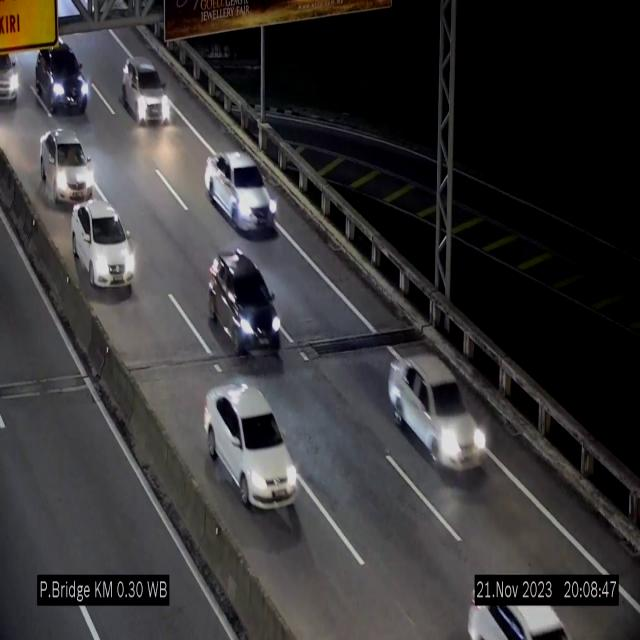Car: (204, 377, 298, 507), (388, 356, 489, 471), (208, 251, 282, 360), (464, 574, 572, 640), (205, 150, 278, 234), (72, 198, 136, 290), (33, 34, 96, 121), (38, 127, 98, 204), (121, 57, 171, 124), (0, 50, 20, 108)
